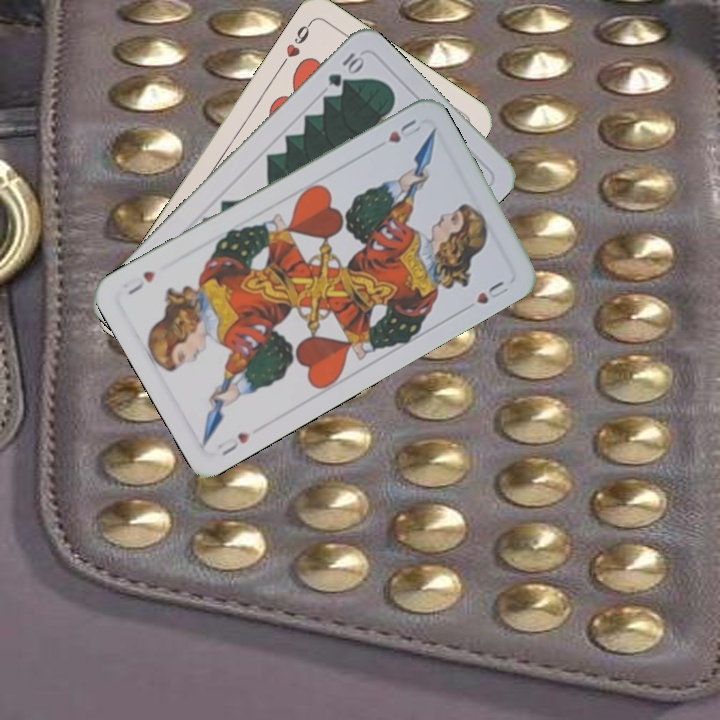G10: (323, 48, 367, 90)
H9: (276, 17, 315, 69)
HU: (384, 115, 424, 146), (213, 428, 253, 459)
